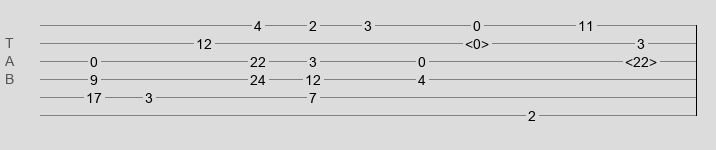0: (90, 54, 98, 64), (418, 54, 426, 64), (473, 18, 481, 28)
11: (578, 18, 594, 28)
12: (196, 36, 212, 46), (305, 72, 321, 82)
17: (86, 90, 102, 100)
2: (309, 18, 317, 28), (528, 108, 536, 118)
22: (250, 54, 266, 64)
24: (250, 72, 266, 82)
3: (145, 90, 153, 100), (309, 54, 317, 64), (364, 18, 372, 28), (637, 36, 645, 46)
4: (254, 18, 262, 28), (418, 72, 426, 82)
7: (309, 90, 317, 100)
9: (90, 72, 98, 82)
harmonic: (625, 54, 657, 64), (465, 36, 489, 46)
